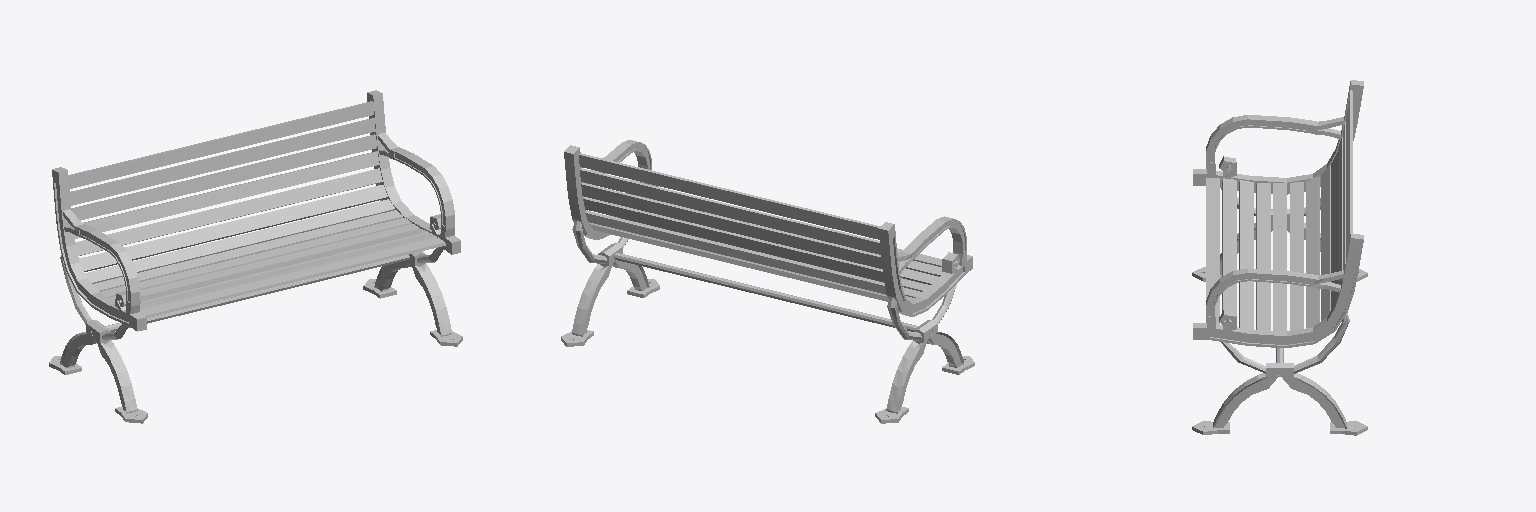
File: bench.obj
3 renders of one model, left to right at view 1: azimuth 30°, elevation 25°; view 2: azimuth 150°, elevation 25°; view 3: azimuth 270°, elevation 25°, orthographic.
Parts seen in each view (by area): view 1: LoD_1; view 2: LoD_1; view 3: LoD_1.
Boxes of the visible parts, box(x1,y1,x2,y2) form: LoD_1: box(49, 90, 462, 423); LoD_1: box(561, 140, 974, 423); LoD_1: box(1192, 80, 1367, 435).
Size of the model in its own units: 176 by 96.85 by 79.41.